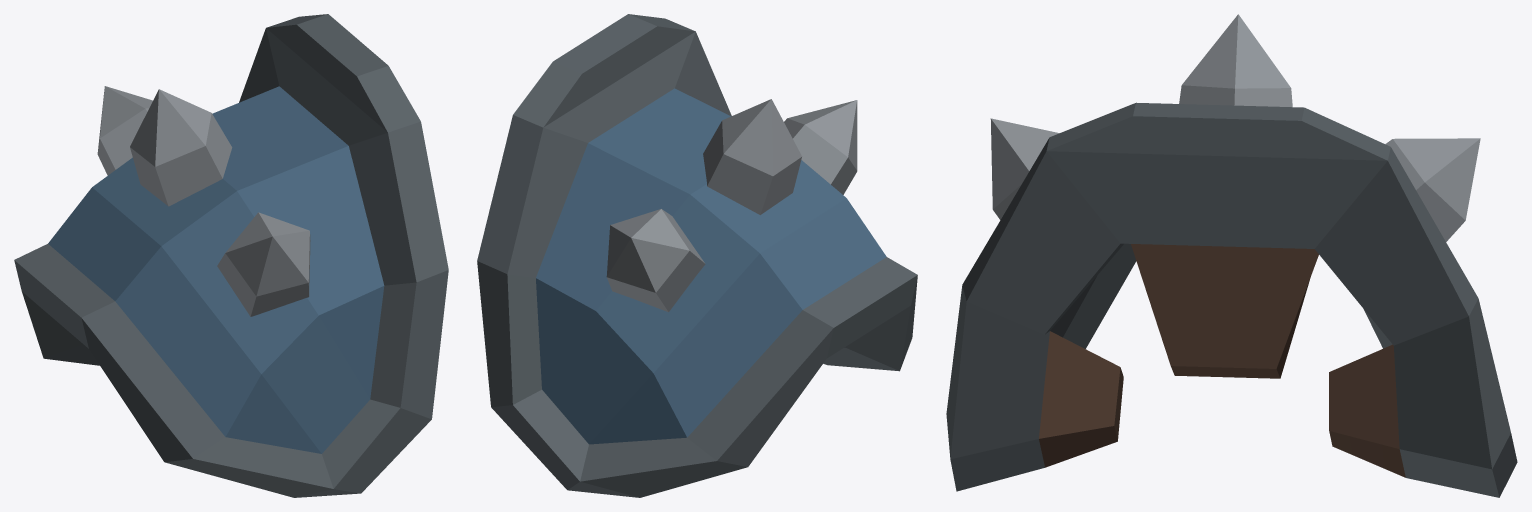
File: Chr_ShoulderAttachRight_10_Static.fbx
3 renders of one model, left to right at view 1: azimuth 30°, elevation 25°; view 2: azimuth 150°, elevation 25°; view 3: azimuth 270°, elevation 25°, orthographic. The views are drawn at different scales.
Visible parts, largest first — view 1: Chr_ShoulderAttachRight_10_Static; view 2: Chr_ShoulderAttachRight_10_Static; view 3: Chr_ShoulderAttachRight_10_Static.
Part boxes in pixels (<box>): Chr_ShoulderAttachRight_10_Static: <box>14,14,448,497</box>; Chr_ShoulderAttachRight_10_Static: <box>477,14,917,497</box>; Chr_ShoulderAttachRight_10_Static: <box>946,14,1517,497</box>.
Size of the model in its own units: 0.2588 by 0.2829 by 0.327.
